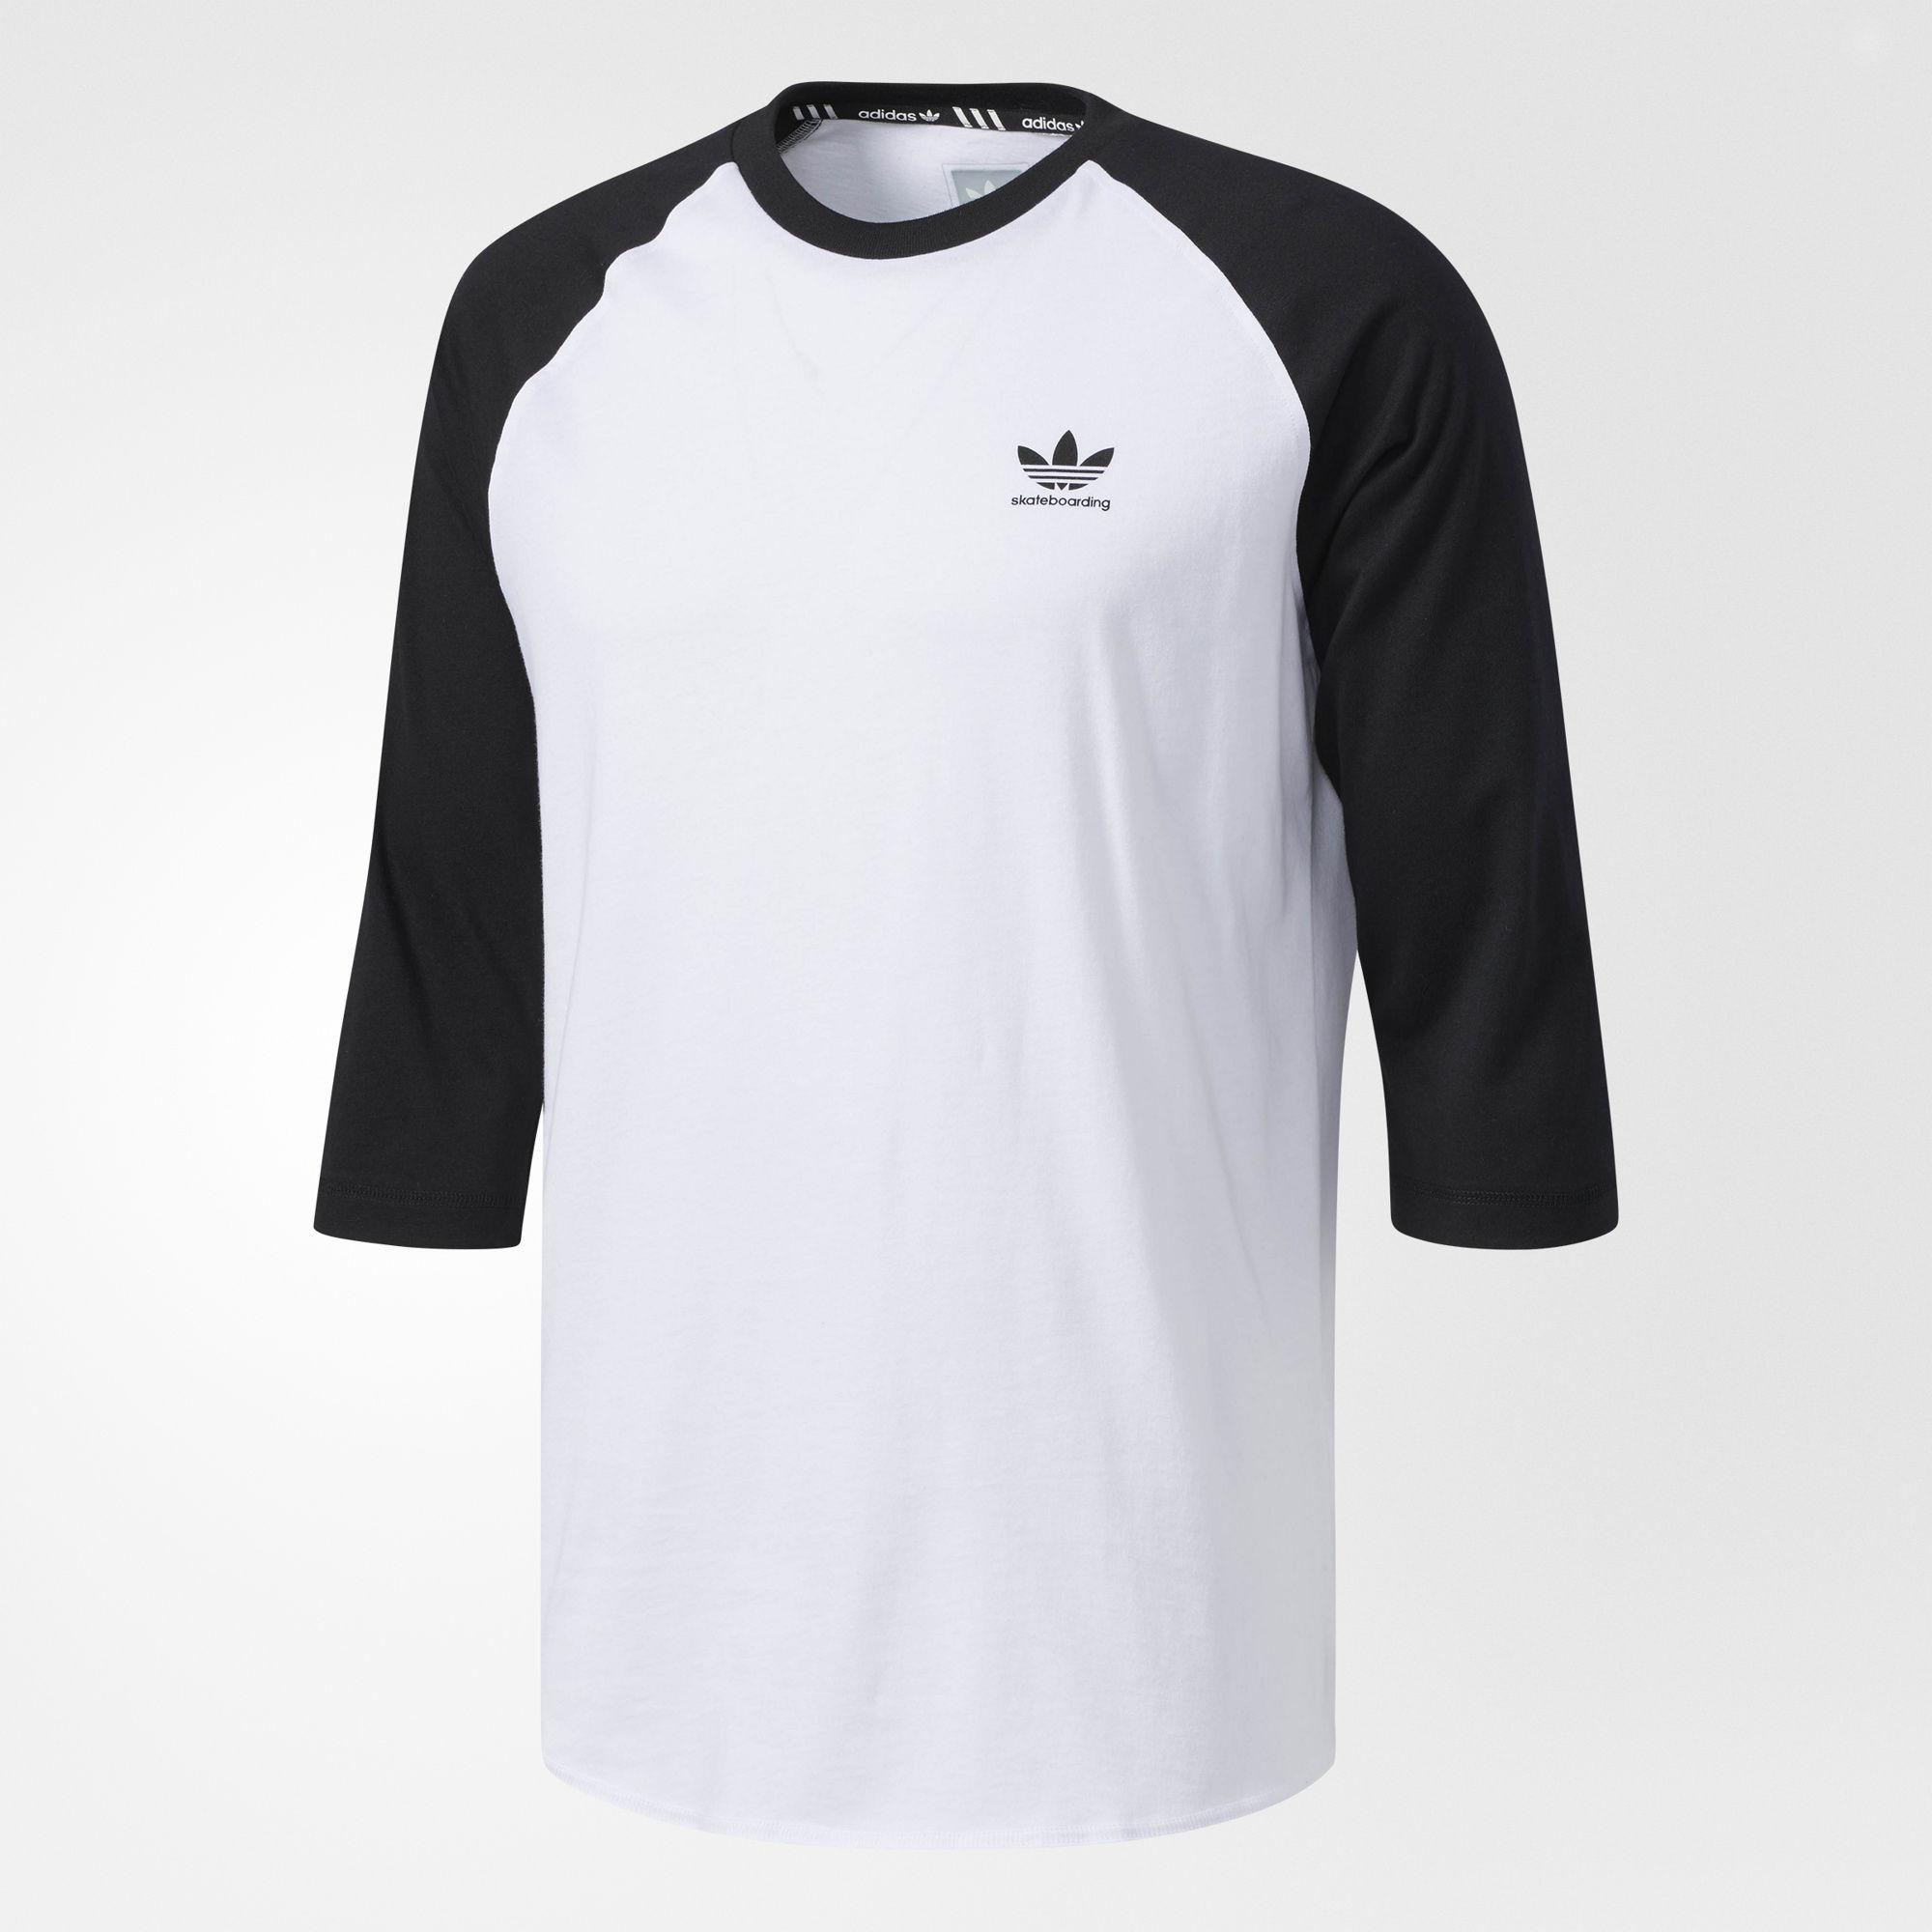teeshirt: (265, 67, 1654, 1852)
